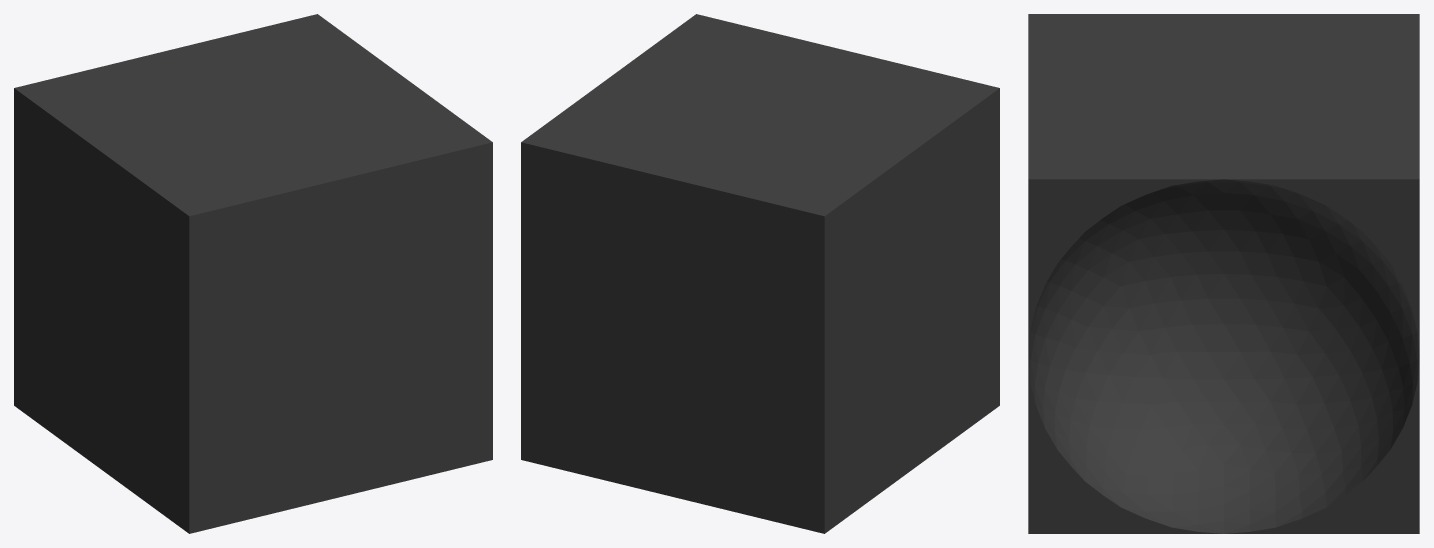
3 views of the same model, side by side, from view 1: azimuth 30°, elevation 25°; view 2: azimuth 150°, elevation 25°; view 3: azimuth 270°, elevation 25° (orthographic). The views are drawn at different scales.
Parts seen in each view (by area): view 1: world; view 2: world; view 3: world.
Boxes of the visible parts, bbox=[...] form: world: bbox=[14, 14, 492, 533]; world: bbox=[521, 14, 999, 533]; world: bbox=[1028, 14, 1419, 533].
Size of the model in its own units: 20 by 20 by 20.
1 material, 1 textured.
